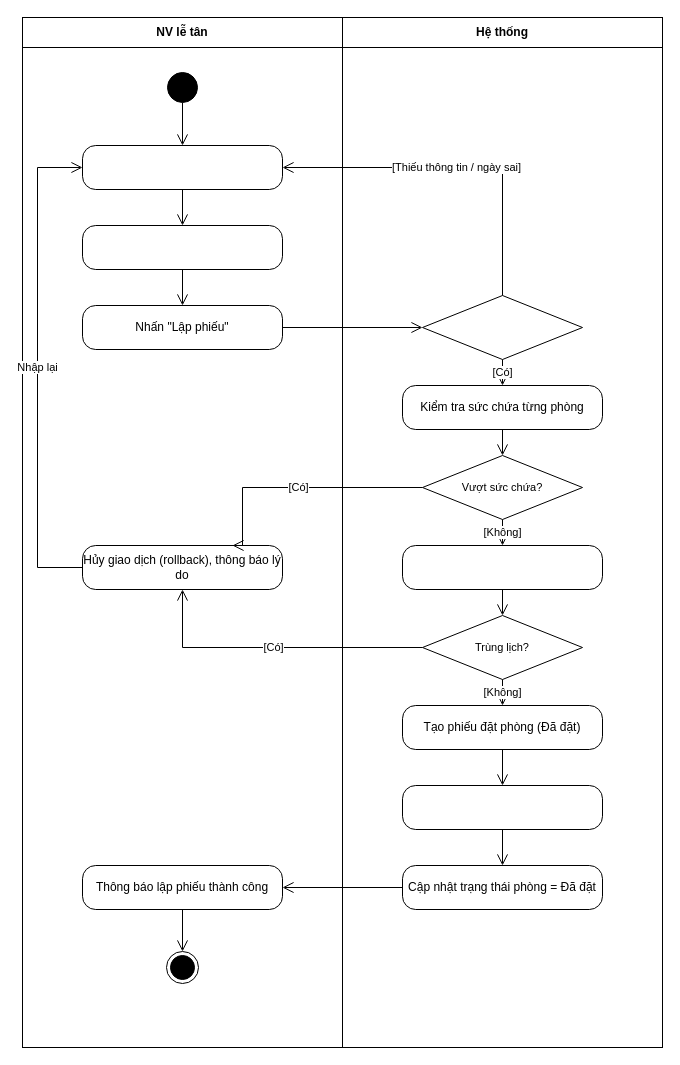
This 680x1065 diagram has some shape labels left out. The box of each missing label's shape, as (x1, y1, x2, y2) in pixels:
Chọn phòng và số người cho từng phòng: (82, 224, 282, 270)
Hợp lệ?: (422, 294, 582, 360)
Kiểm tra lịch chồng lấn với phiếu Đã đặt / Đang ở: (402, 544, 602, 590)
Lưu chi tiết đặt phòng: (402, 784, 602, 830)
Nhập thông tin phiếu đặt: khách, kênh đặt, ngày nhận, ngày trả, tiền cọc: (82, 144, 282, 190)
